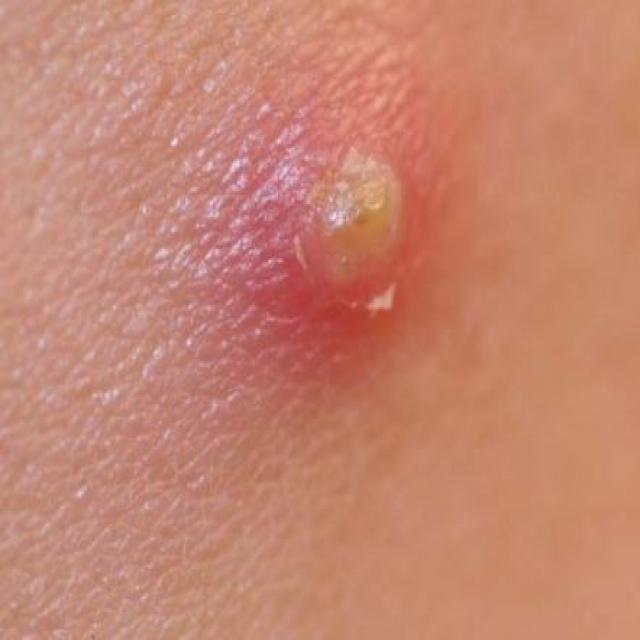blackheads: (269, 107, 451, 335)
